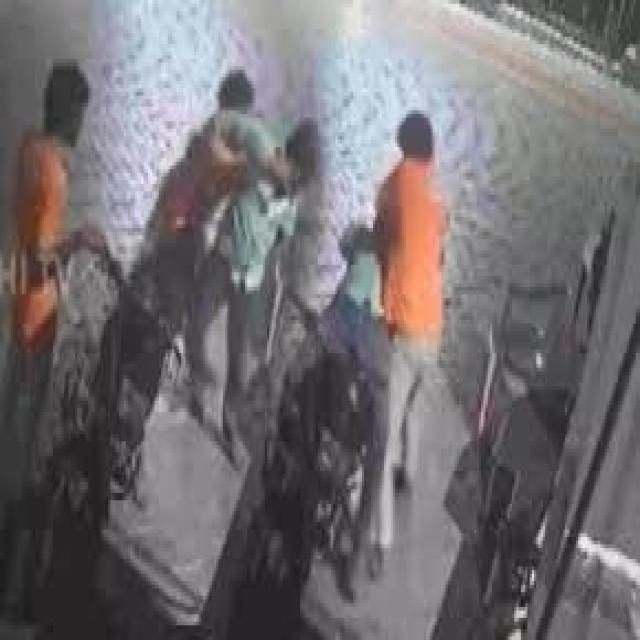fight: (324, 50, 450, 561), (150, 49, 298, 450)
